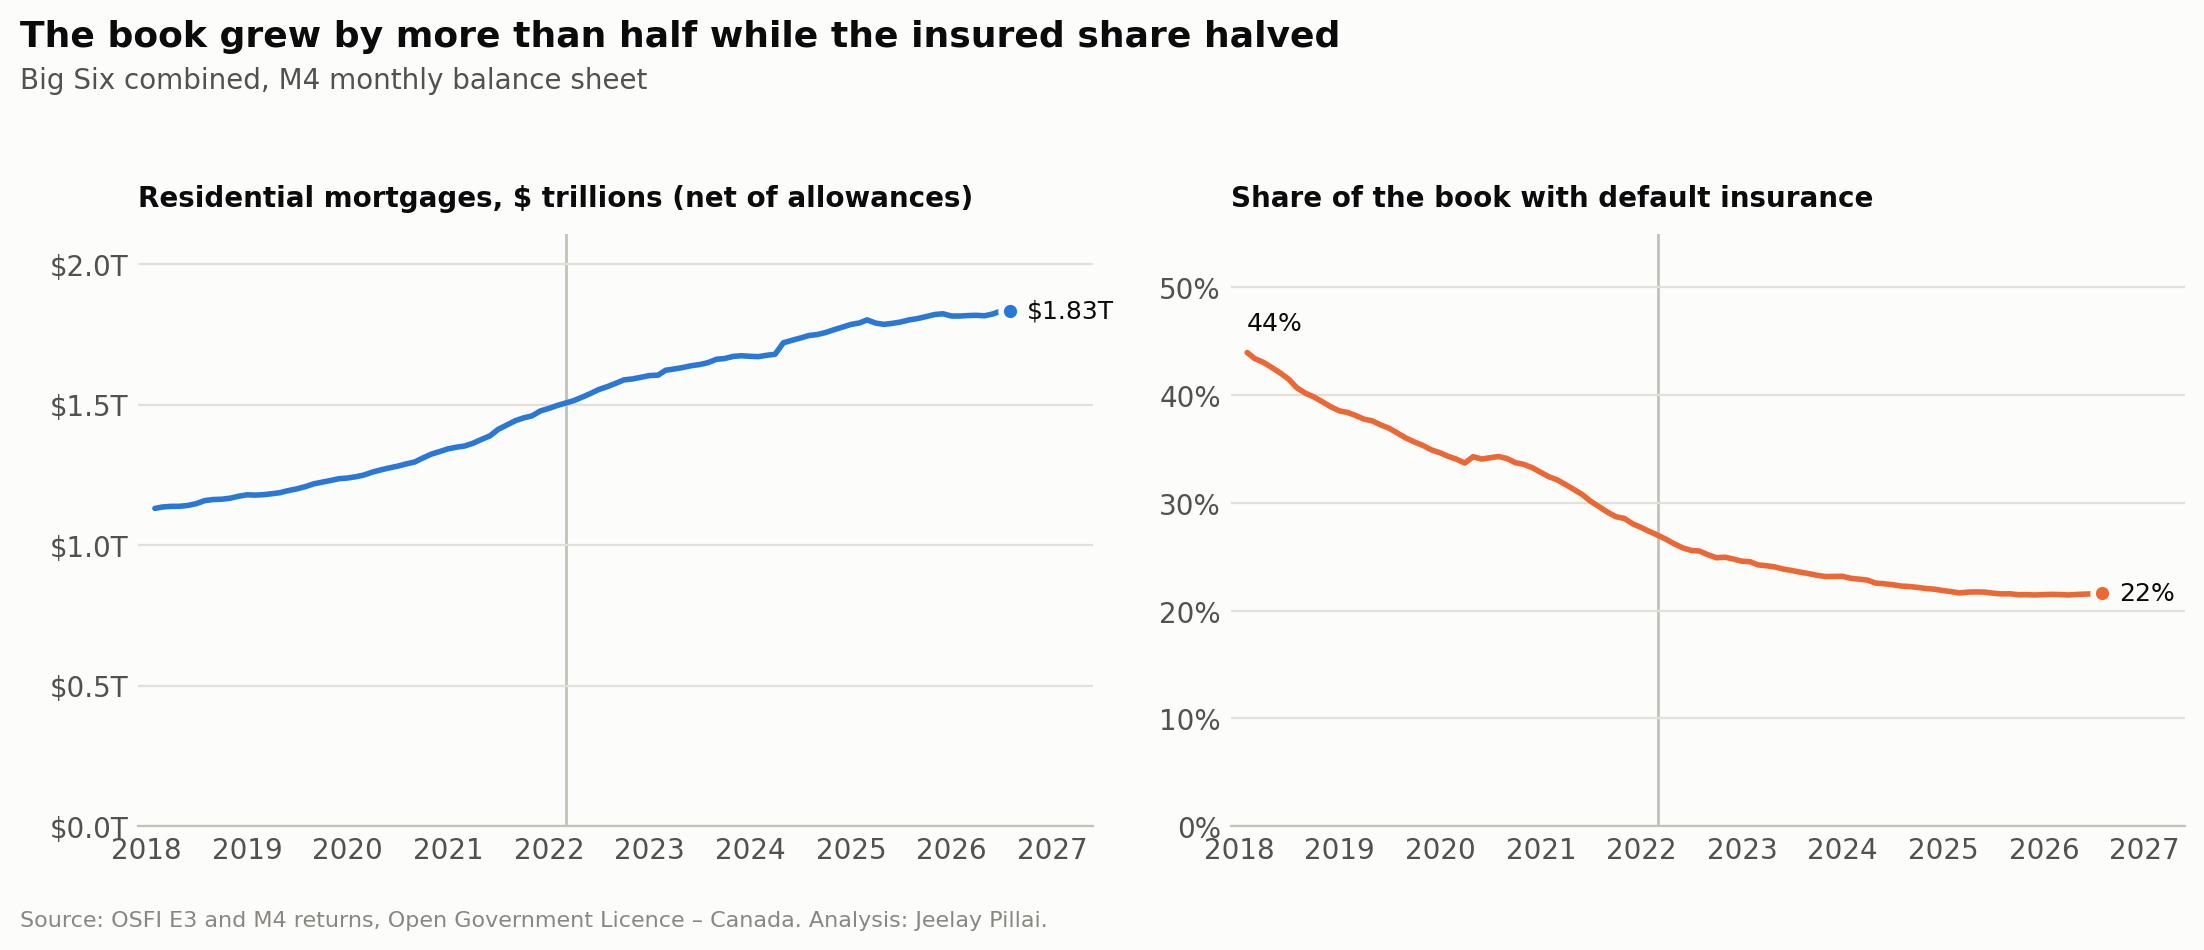

This screenshot's page, from the dashboard's own definition file:
{"tool":"tableau","page":{"name":"Mortgage book","canvas":[1200,820],"ordinal":1},"visuals":[{"type":"text","box":[24,16,1100,40]},{"type":"text","box":[24,56,1100,28]},{"type":"worksheet","title":"Mortgage balances","mark":"Line","rows":["Calculation_5310000000000000101"],"cols":["month_end_date"],"box":[24,96,700,680]},{"type":"worksheet","title":"Insured share","mark":"Line","rows":["Calculation_5310000000000000102"],"cols":["month_end_date"],"box":[736,96,440,520]},{"type":"legend","title":"Mortgage balances","param":"[federated.j0bwga44qbsld83g6ipduy11cgz7].[none:short_name:nk]","box":[736,630,440,146]},{"type":"text","box":[24,780,1152,30]}]}

Visuals, with their boxes on the page's 1200x820 design canvas (x1, y1, x2, y2). These are canvas units, not pixel positions in the 2204x950 screenshot, which may show the page scaled, cropped or inside an application window:
text: bbox=[24, 16, 1124, 56]
text: bbox=[24, 56, 1124, 84]
"Mortgage balances" worksheet (Line marks): bbox=[24, 96, 724, 776]
"Insured share" worksheet (Line marks): bbox=[736, 96, 1176, 616]
"Mortgage balances" legend: bbox=[736, 630, 1176, 776]
text: bbox=[24, 780, 1176, 810]
